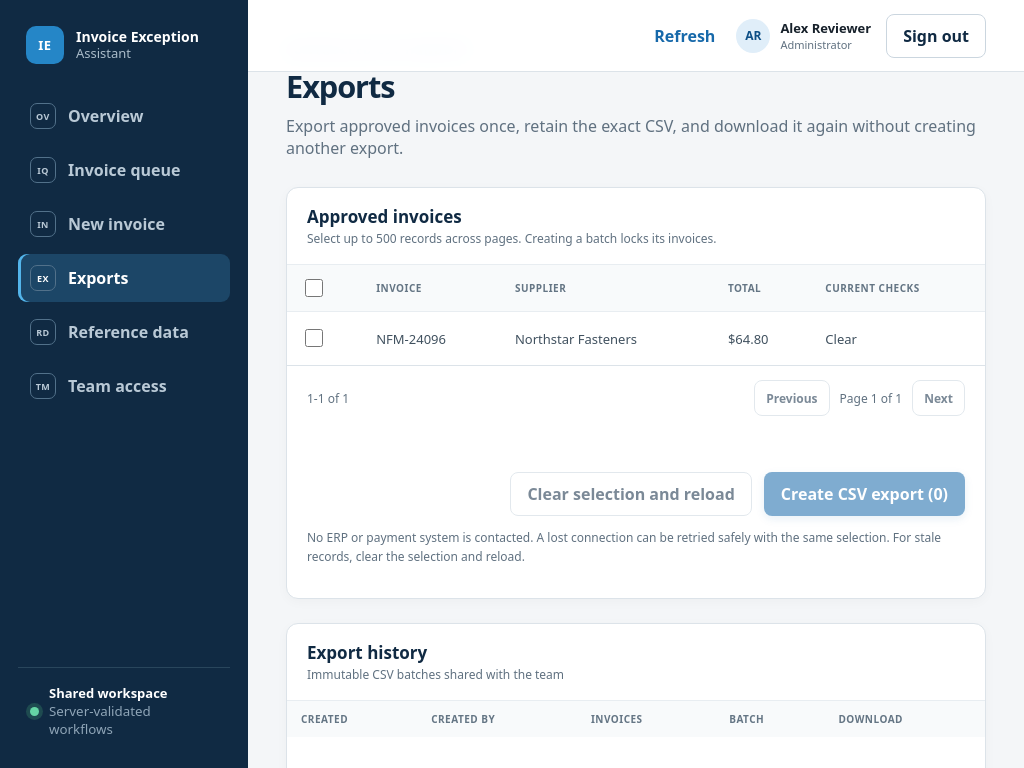
Scenario: CSV exports › creates a selected batch, clears selection, and downloads it
The width and height of the screenshot is (1024, 768).
(page scrolled)
What coordinates should you click on to do the following:
click the checkbox named "Select invoice NFM-24096"
I would click on:
 (314, 338)
Its box is 305,329 -> 323,347.
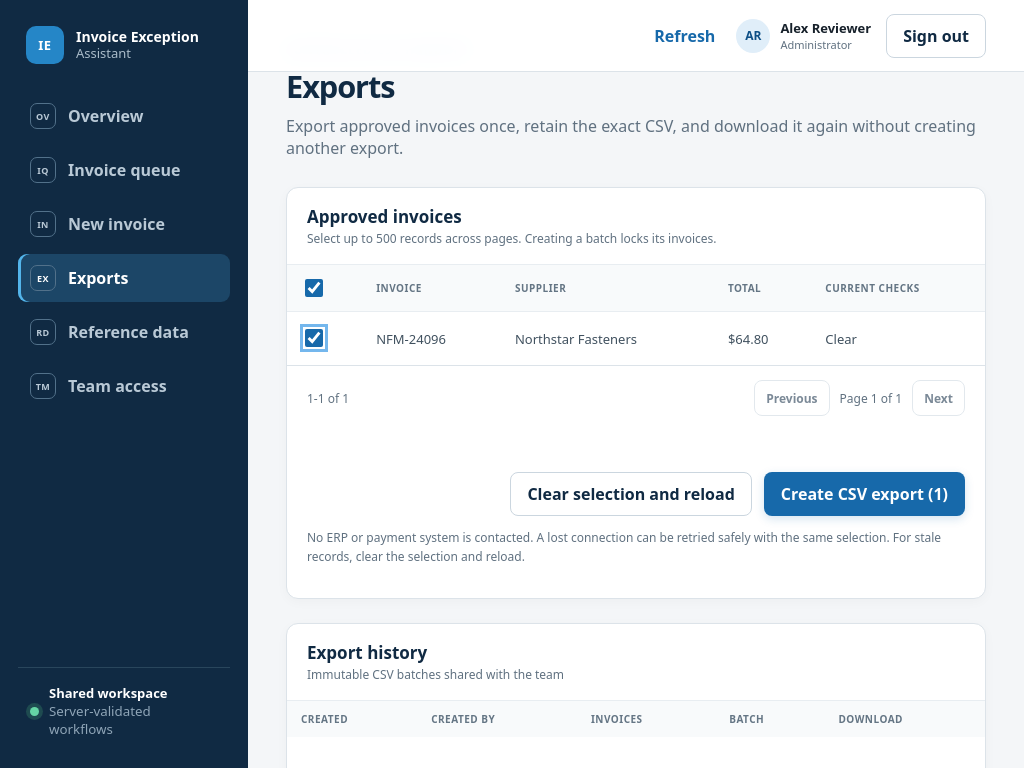
What coordinates should you click on to do the following:
click the button "Create CSV export (1)"
I would click on:
 (864, 494)
Its box is 764,472 -> 965,516.
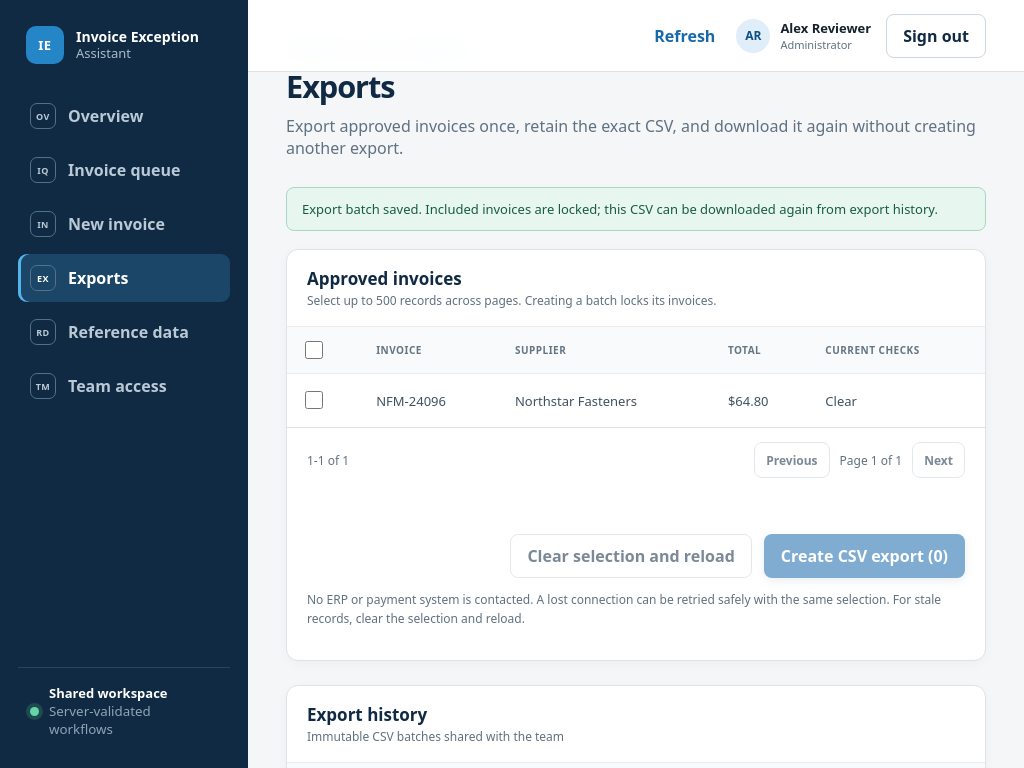
expect the message shows "Export batch saved": met, box 302,200 -> 938,218
expect the button "Create CSV export (0)" is disabled: met, box 764,534 -> 965,578
